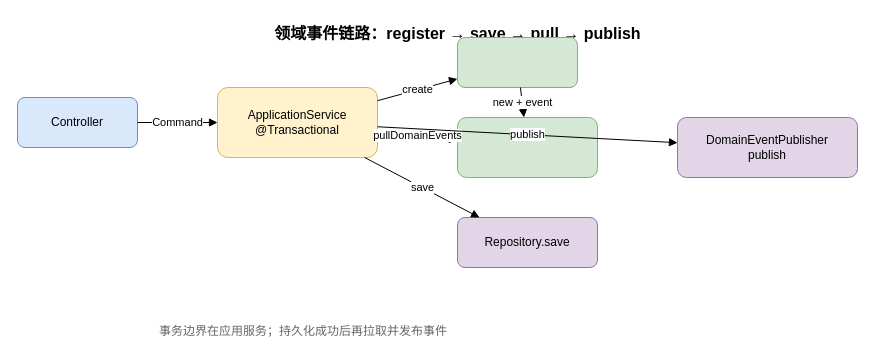
Some shapes in this 875 by 364 pixel diagram are drawn without their labels. The centre of each missing label's shape, as x and y in pixels:
"AggregateRoot registerEvent" belongs at pixel 527 147.
"Factory" belongs at pixel 517 62.
